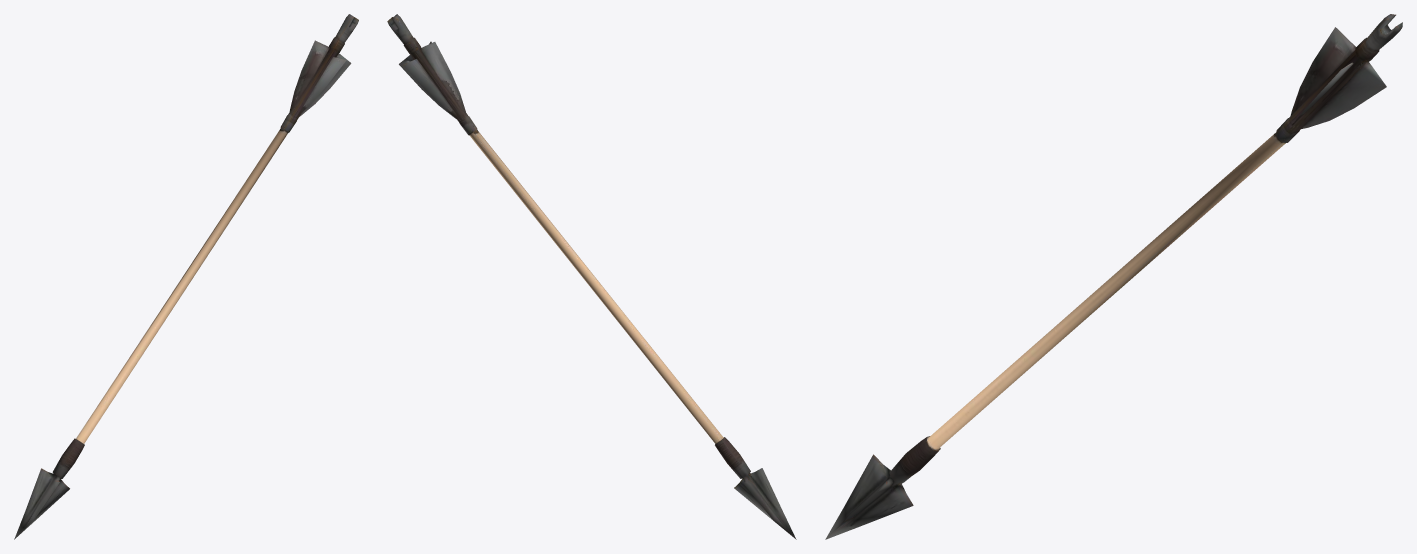
The model's file is bolt.glb.
3 views of the same model, side by side, from view 1: azimuth 30°, elevation 25°; view 2: azimuth 150°, elevation 25°; view 3: azimuth 330°, elevation 25° (orthographic). The views are drawn at different scales.
Parts seen in each view (by area): view 1: tripo_node_64faf985-2e8e-41bb-b7fa-4e6af7a12d9a; view 2: tripo_node_64faf985-2e8e-41bb-b7fa-4e6af7a12d9a; view 3: tripo_node_64faf985-2e8e-41bb-b7fa-4e6af7a12d9a.
Part boxes in pixels (x1,y1,x2,y2): tripo_node_64faf985-2e8e-41bb-b7fa-4e6af7a12d9a: (14,14,358,539); tripo_node_64faf985-2e8e-41bb-b7fa-4e6af7a12d9a: (387,14,796,539); tripo_node_64faf985-2e8e-41bb-b7fa-4e6af7a12d9a: (825,14,1402,539).
Size of the model in its own units: 0.9018 by 0.9995 by 0.1577.
1 material, 1 textured.
